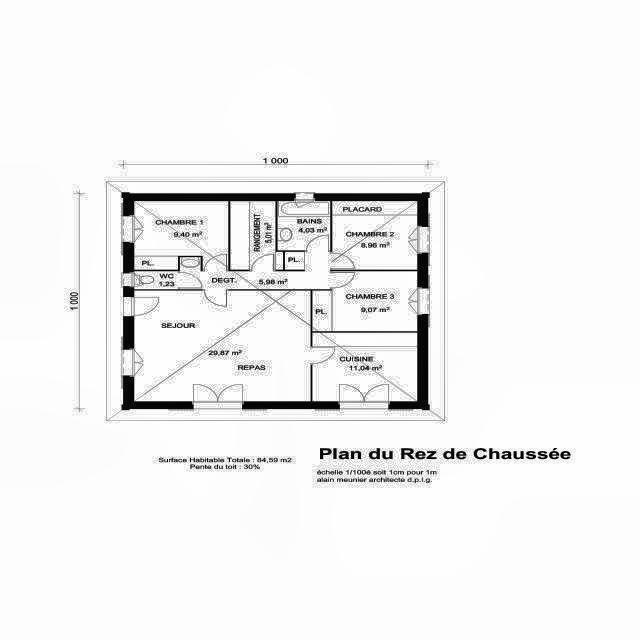room: (134, 290, 311, 401), (312, 333, 417, 401), (134, 201, 228, 270), (312, 271, 417, 331), (332, 201, 417, 270), (180, 252, 332, 289), (230, 201, 283, 270), (277, 201, 330, 251), (134, 271, 178, 289)
